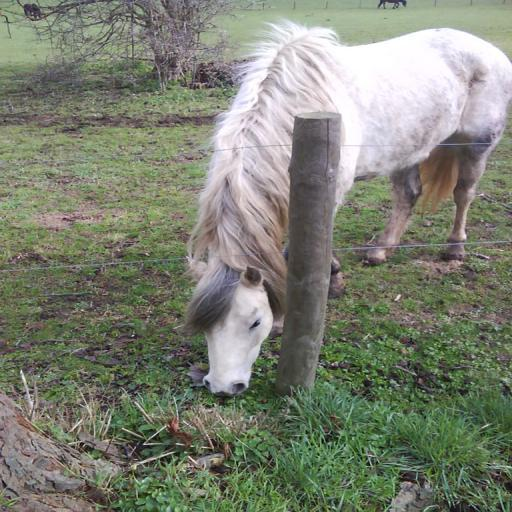horse: (172, 14, 511, 398), (374, 0, 410, 10), (22, 3, 42, 19)
